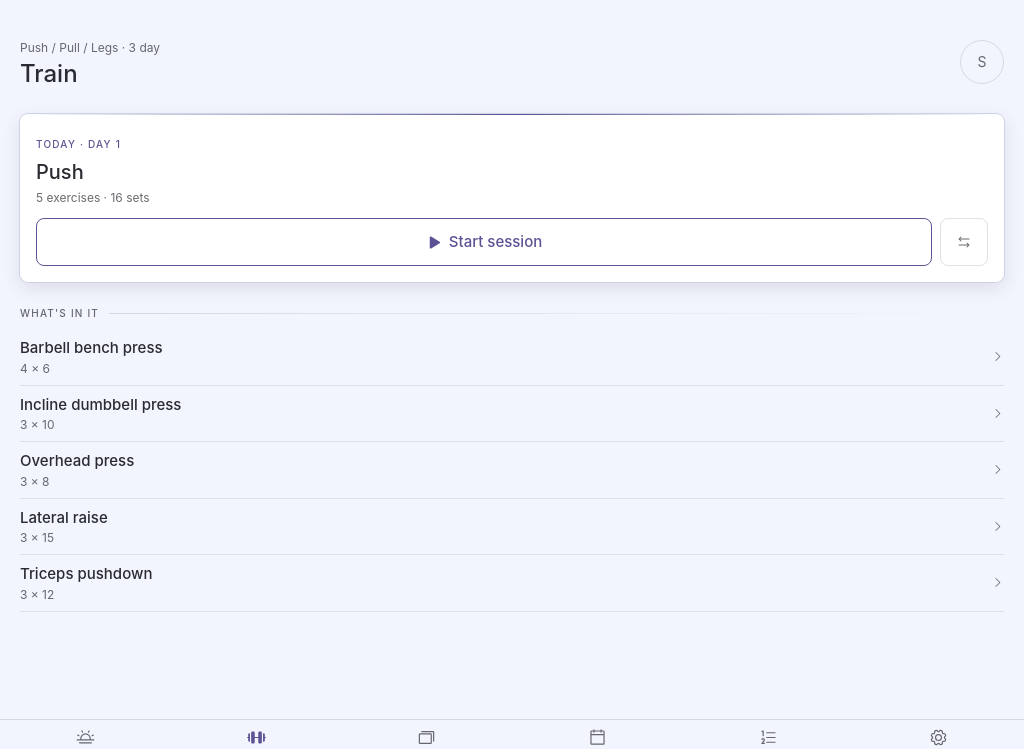
Test: Train › offers any day of the split, so a day you missed can be done today
This screenshot has width=1024, height=749.
What coordinates should you click on to do the following:
click the button named "Do a different session"
I would click on:
 (964, 242)
Its box is [940,218,988,266].
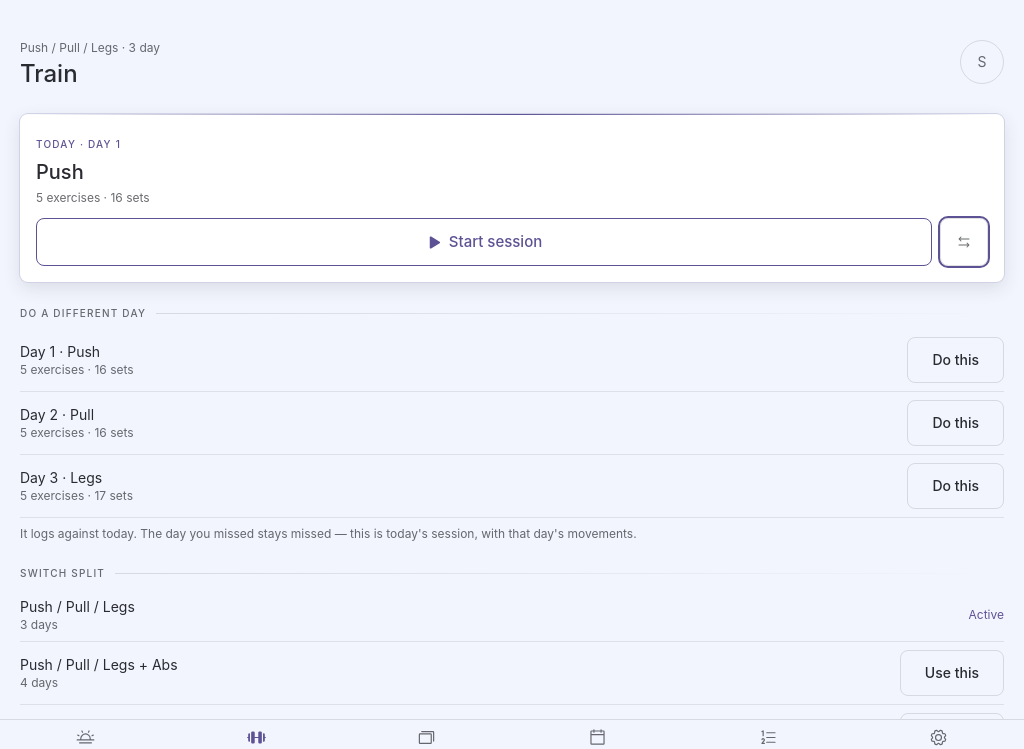
What coordinates should you click on to do the following:
click the button "Do this" in the row of "5 exercises · 17 sets"
I would click on:
 (956, 486)
Its box is [907,463,1004,509].
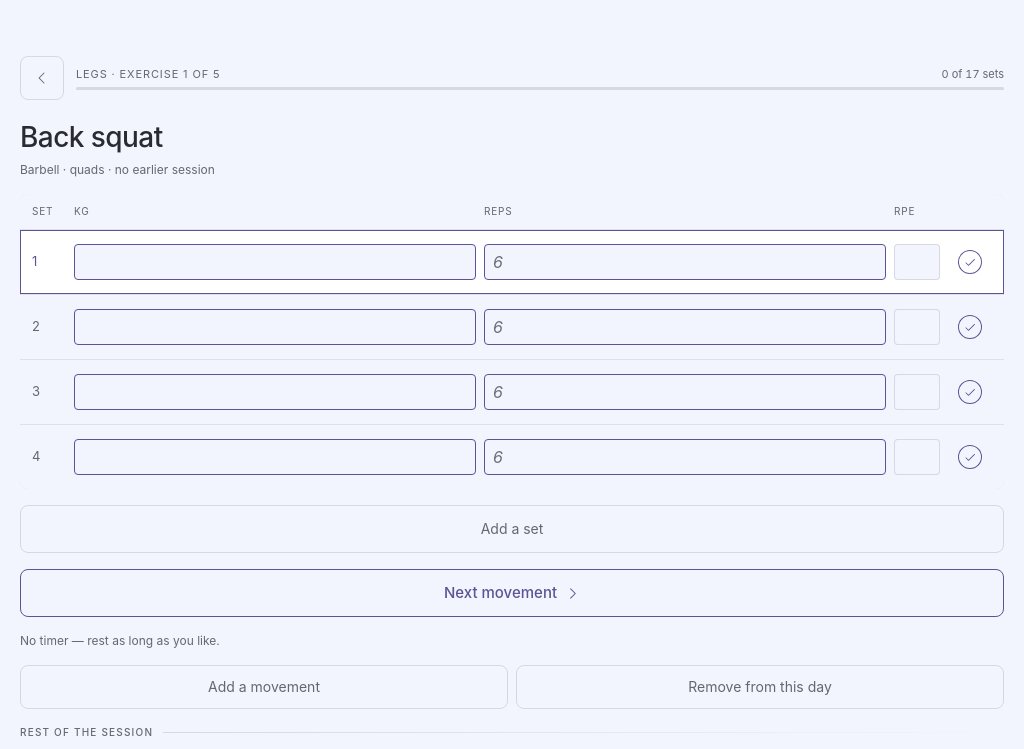
Result: the text "Legs · exercise 1 of 5" is shown at [76,66,220,83]
